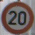20 km speed: (1, 1, 34, 34)
